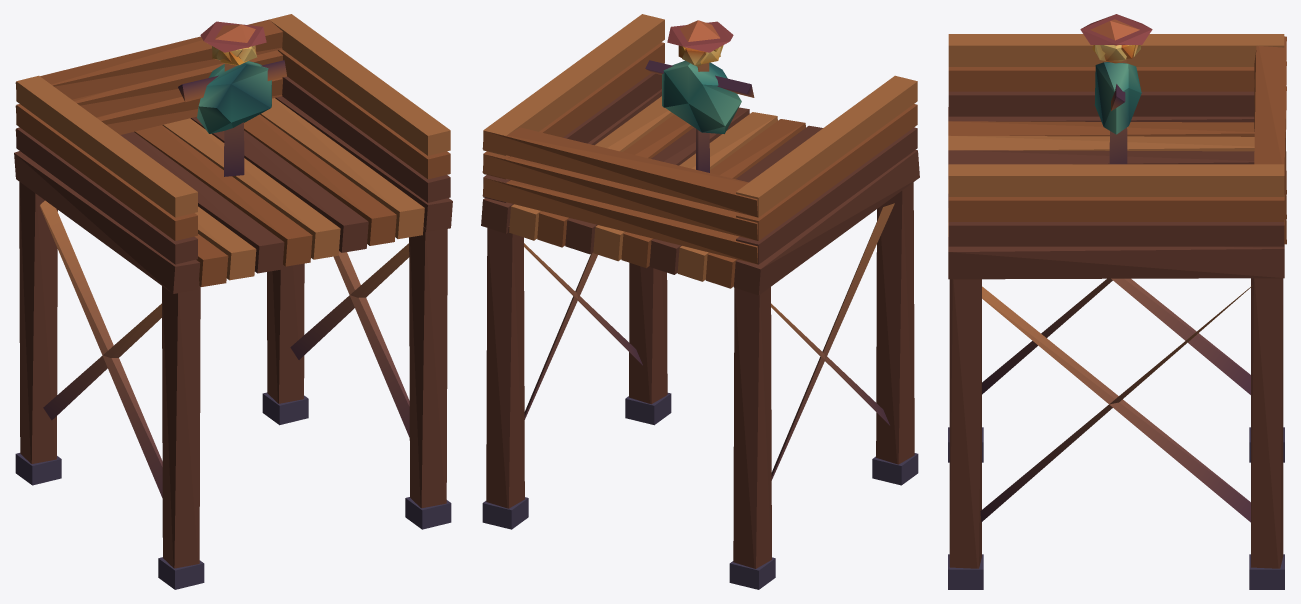
Rendered from grove_tower-lod1.glb.
3 views of the same model, side by side, from view 1: azimuth 30°, elevation 25°; view 2: azimuth 150°, elevation 25°; view 3: azimuth 270°, elevation 25° (orthographic). The views are drawn at different scales.
Parts seen in each view (by area): view 1: grove_tower; view 2: grove_tower; view 3: grove_tower.
Part boxes in pixels (x1=…): grove_tower: x1=14, y1=14, x2=452, y2=589; grove_tower: x1=481, y1=14, x2=919, y2=589; grove_tower: x1=948, y1=14, x2=1286, y2=589.
Size of the model in its own units: 4.98 by 8.07 by 4.95.
